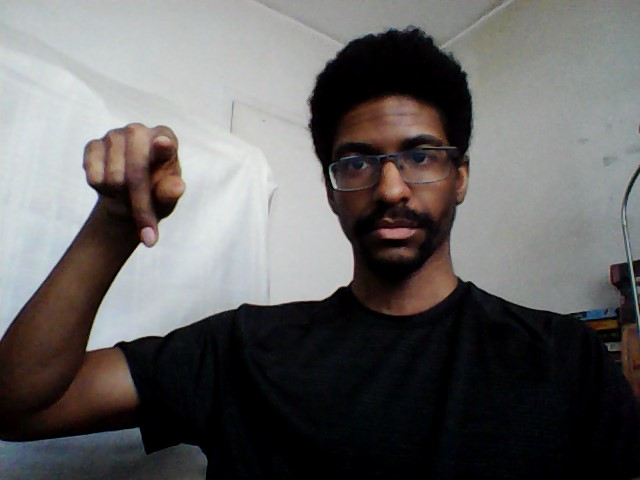p: (75, 119, 192, 252)
